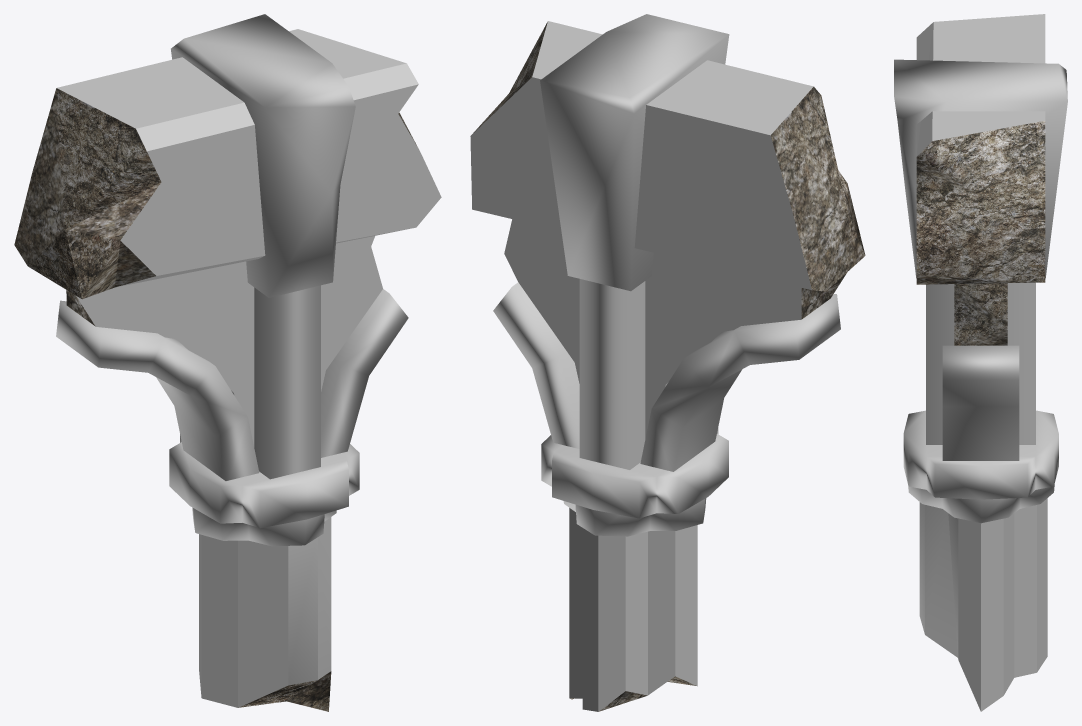
The model's file is Ruins_15_LOD1.fbx.
3 renders of one model, left to right at view 1: azimuth 30°, elevation 25°; view 2: azimuth 150°, elevation 25°; view 3: azimuth 270°, elevation 25°, orthographic. The views are drawn at different scales.
Visible parts, largest first — view 1: polySurface5348; view 2: polySurface5348; view 3: polySurface5348.
Boxes of the visible parts, left/top/right/bottom form: polySurface5348: left=14, top=14, right=441, bottom=711; polySurface5348: left=470, top=14, right=865, bottom=711; polySurface5348: left=894, top=14, right=1067, bottom=711.
Bounding box in the file's own units: 2.29 × 4.1 × 1.07.
